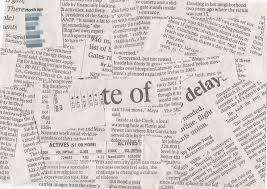Printing industry: (5, 4, 267, 189)
